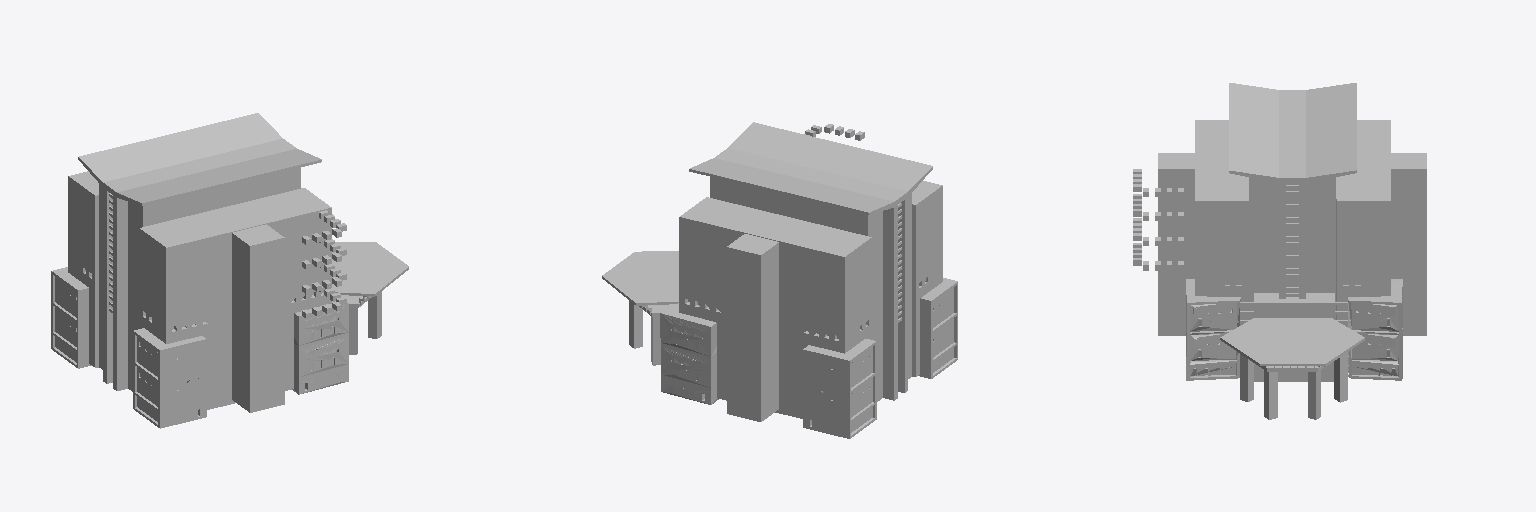
File: library_v4_object.obj
3 renders of one model, left to right at view 1: azimuth 30°, elevation 25°; view 2: azimuth 150°, elevation 25°; view 3: azimuth 270°, elevation 25°, orthographic.
Parts seen in each view (by area): view 1: central_cube.000_Cube.006, defaultobject, cutter_large_y_Cube.008, cutter_large_Cube.007; view 2: central_cube.000_Cube.006, defaultobject; view 3: central_cube.000_Cube.006, defaultobject, cutter_large_Cube.007, cutter_large_y_Cube.008.
Part boxes in pixels (left/top/right/bottom): central_cube.000_Cube.006: left=51, top=113, right=348, bottom=428; defaultobject: left=109, top=193, right=408, bottom=354; cutter_large_y_Cube.008: left=302, top=228, right=341, bottom=318; cutter_large_Cube.007: left=319, top=210, right=346, bottom=304; central_cube.000_Cube.006: left=660, top=122, right=957, bottom=438; defaultobject: left=602, top=203, right=901, bottom=365; central_cube.000_Cube.006: left=1158, top=83, right=1426, bottom=380; defaultobject: left=1220, top=185, right=1364, bottom=419; cutter_large_Cube.007: left=1143, top=188, right=1183, bottom=270; cutter_large_y_Cube.008: left=1133, top=169, right=1141, bottom=265.
Size of the model in its own units: 134 by 94.25 by 119.